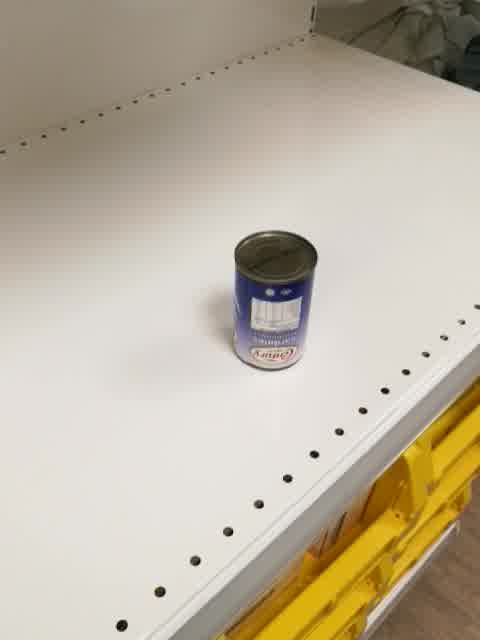sardine: (232, 230, 318, 374)
